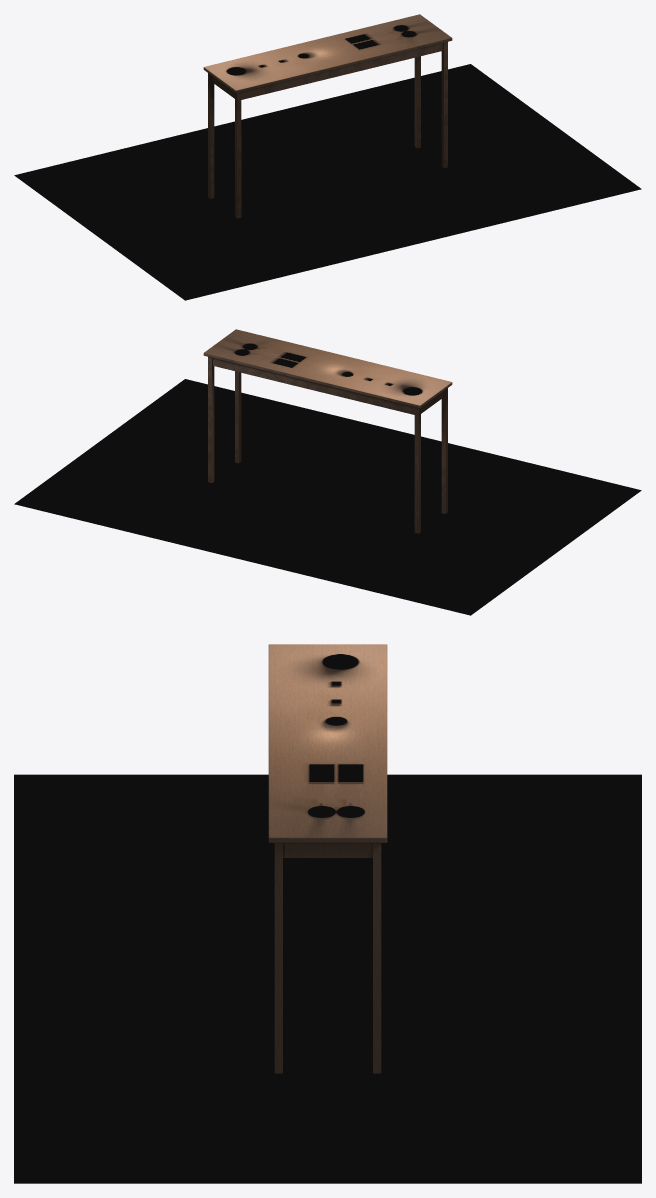
The model's file is 815_elec.glb.
The picture shows the model from 3 angles, top to bottom: view 1: azimuth 30°, elevation 25°; view 2: azimuth 150°, elevation 25°; view 3: azimuth 270°, elevation 25°; orthographic projection. The views are drawn at different scales.
Parts seen in each view (by area): view 1: Shadow, Table; view 2: Shadow, Table; view 3: Shadow, Table.
Boxes of the visible parts, left/top/right/bottom form: Shadow: left=14, top=64, right=641, bottom=300; Table: left=203, top=14, right=452, bottom=218; Shadow: left=14, top=379, right=641, bottom=615; Table: left=203, top=329, right=452, bottom=533; Shadow: left=14, top=774, right=641, bottom=1183; Table: left=268, top=644, right=387, bottom=1073.
Bounding box in the file's own units: 11.4 × 3.1 × 7.4.
Materials: 2 (2 with a texture image).
